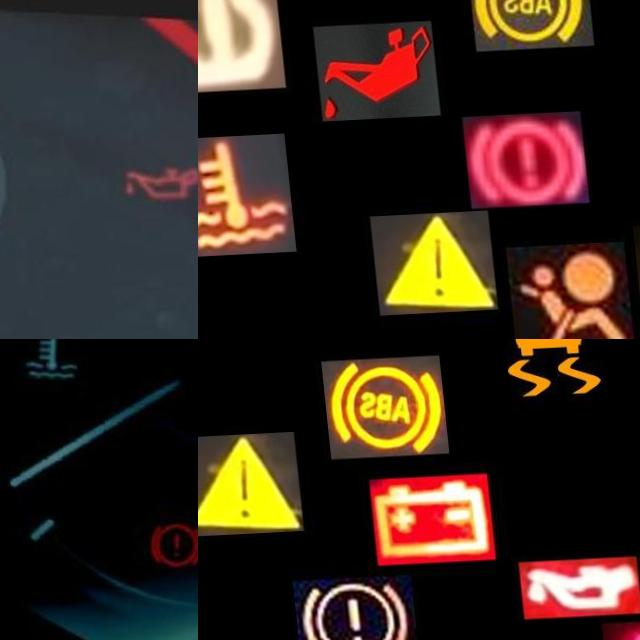Central Warning lamp: (363, 214, 489, 318), (198, 433, 295, 537)
Engine cooling system: (198, 135, 289, 257), (2, 339, 93, 398)
